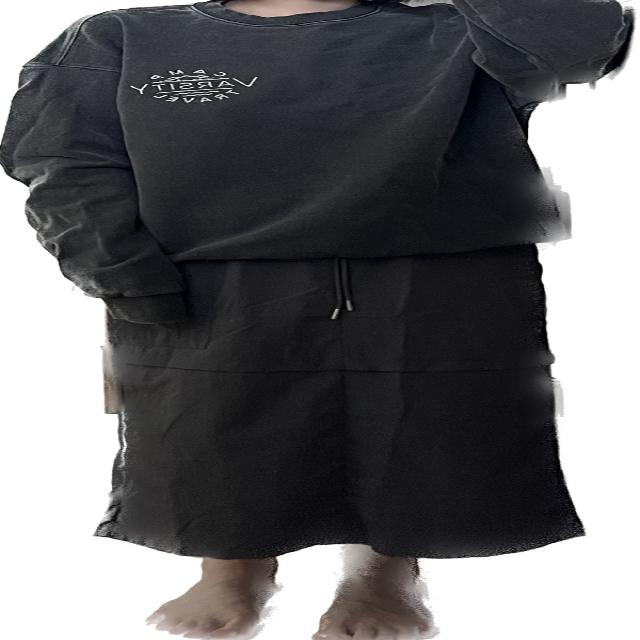mtm: (2, 0, 634, 329)
skirt: (96, 246, 589, 558)
